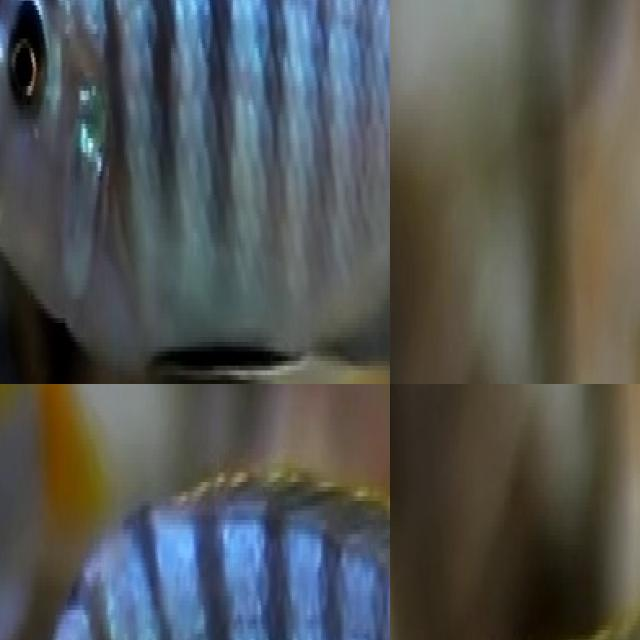fish: (0, 0, 390, 384), (0, 384, 390, 640)
